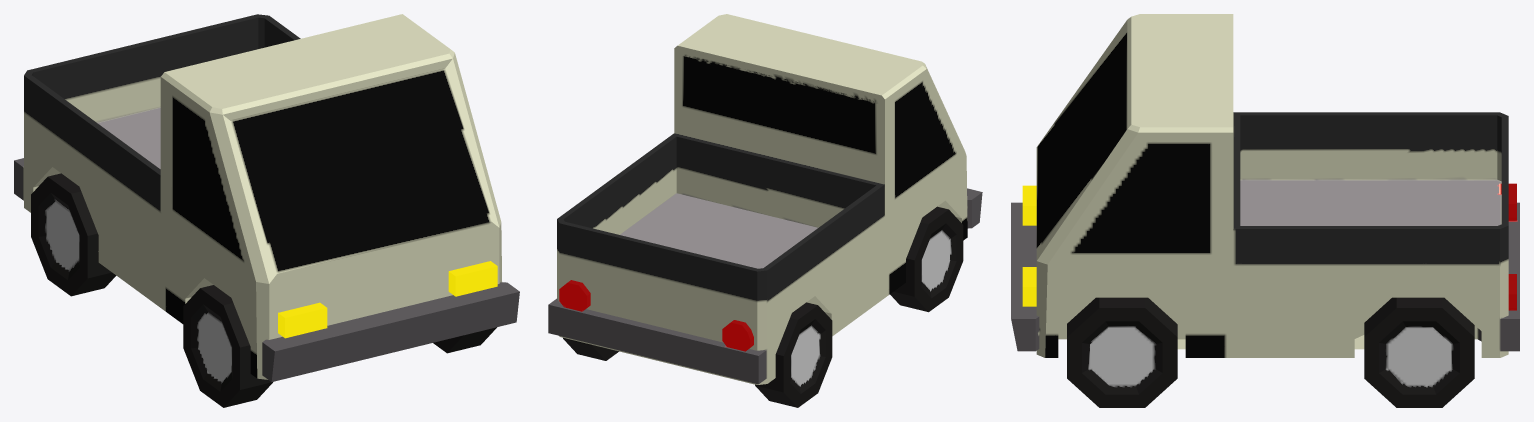
The model's file is Mini heavy.fbx.
3 views of the same model, side by side, from view 1: azimuth 30°, elevation 25°; view 2: azimuth 150°, elevation 25°; view 3: azimuth 270°, elevation 25° (orthographic). The views are drawn at different scales.
Parts seen in each view (by area): view 1: Mini heavy; view 2: Mini heavy; view 3: Mini heavy.
Part boxes in pixels (x1=…): Mini heavy: x1=14, y1=14, x2=519, y2=407; Mini heavy: x1=548, y1=14, x2=982, y2=407; Mini heavy: x1=1011, y1=14, x2=1519, y2=407.
Size of the model in its own units: 178 by 188 by 313.
Materials: 1 (1 with a texture image).
